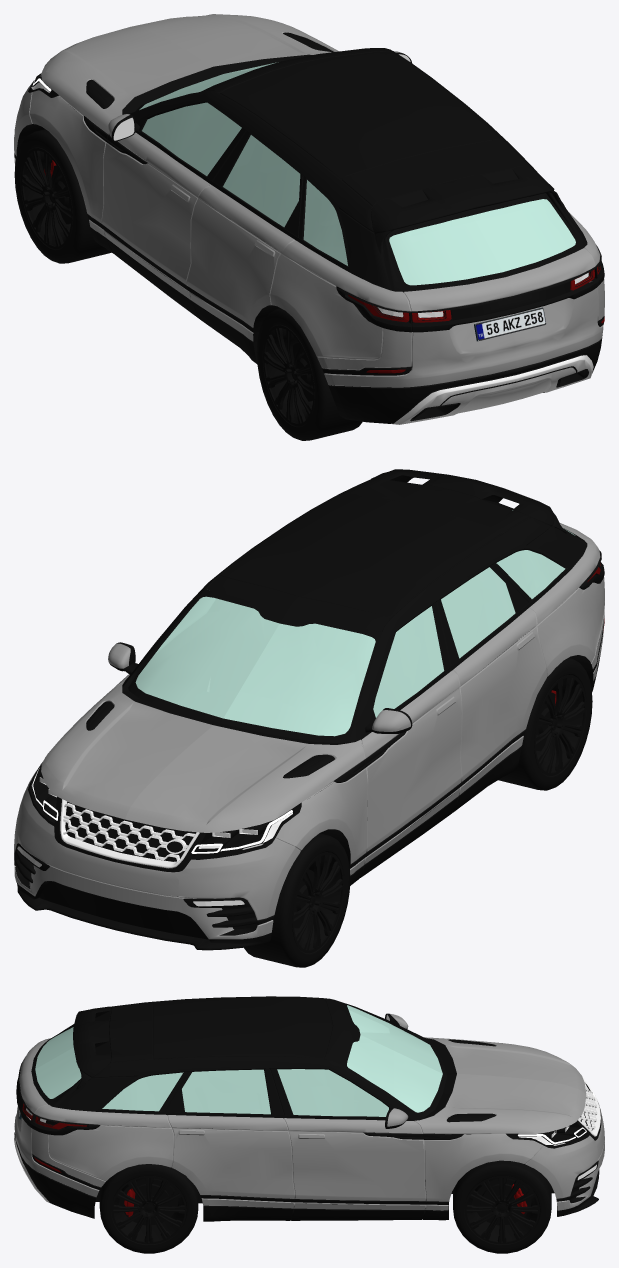
File: land-rover-range-rover-velar.glb
The picture shows the model from 3 angles, top to bottom: view 1: azimuth 30°, elevation 25°; view 2: azimuth 150°, elevation 25°; view 3: azimuth 270°, elevation 25°; orthographic projection. The views are drawn at different scales.
Visible parts, largest first — view 1: Object_2, Object_8, Object_3, Object_12, Object_11, Object_7, Object_10; view 2: Object_2, Object_8, Object_3, Object_12, Object_11; view 3: Object_2, Object_8, Object_3, Object_12, Object_11, Object_10.
Boxes of the visible parts, x1=… form: Object_2: x1=14, y1=14, x2=604, y2=387; Object_8: x1=14, y1=32, x2=604, y2=423; Object_3: x1=139, y1=62, x2=575, y2=285; Object_12: x1=14, y1=129, x2=362, y2=440; Object_11: x1=31, y1=82, x2=593, y2=424; Object_7: x1=475, y1=308, x2=546, y2=341; Object_10: x1=44, y1=160, x2=604, y2=373; Object_2: x1=14, y1=522, x2=604, y2=939; Object_8: x1=14, y1=469, x2=604, y2=950; Object_3: x1=135, y1=510, x2=575, y2=736; Object_12: x1=244, y1=657, x2=592, y2=967; Object_11: x1=17, y1=633, x2=526, y2=906; Object_2: x1=14, y1=1013, x2=604, y2=1210; Object_8: x1=14, y1=996, x2=601, y2=1221; Object_3: x1=35, y1=1005, x2=442, y2=1116; Object_12: x1=99, y1=1160, x2=551, y2=1253; Object_11: x1=14, y1=1077, x2=600, y2=1202; Object_10: x1=22, y1=1104, x2=527, y2=1216.
Bounding box in the file's own units: 7.99 × 6.47 × 18.71.
10 materials, 1 textured.
